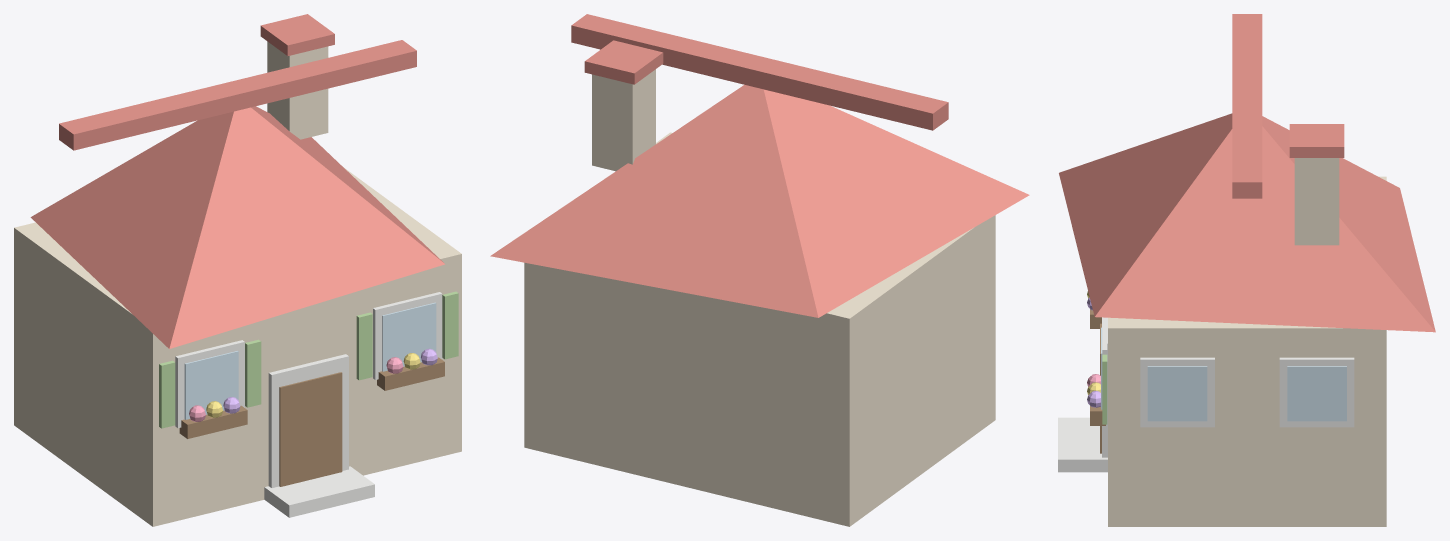
File: lp_haus.glb
3 renders of one model, left to right at view 1: azimuth 30°, elevation 25°; view 2: azimuth 150°, elevation 25°; view 3: azimuth 270°, elevation 25°, orthographic. The views are drawn at different scales.
Parts seen in each view (by area): view 1: Haus; view 2: Haus; view 3: Haus.
Part boxes in pixels (x1,y1,x2,y2): Haus: (14,14,461,526); Haus: (490,14,1029,526); Haus: (1058,14,1435,526).
Bounding box in the file's own units: 4 × 4.01 × 3.79.
